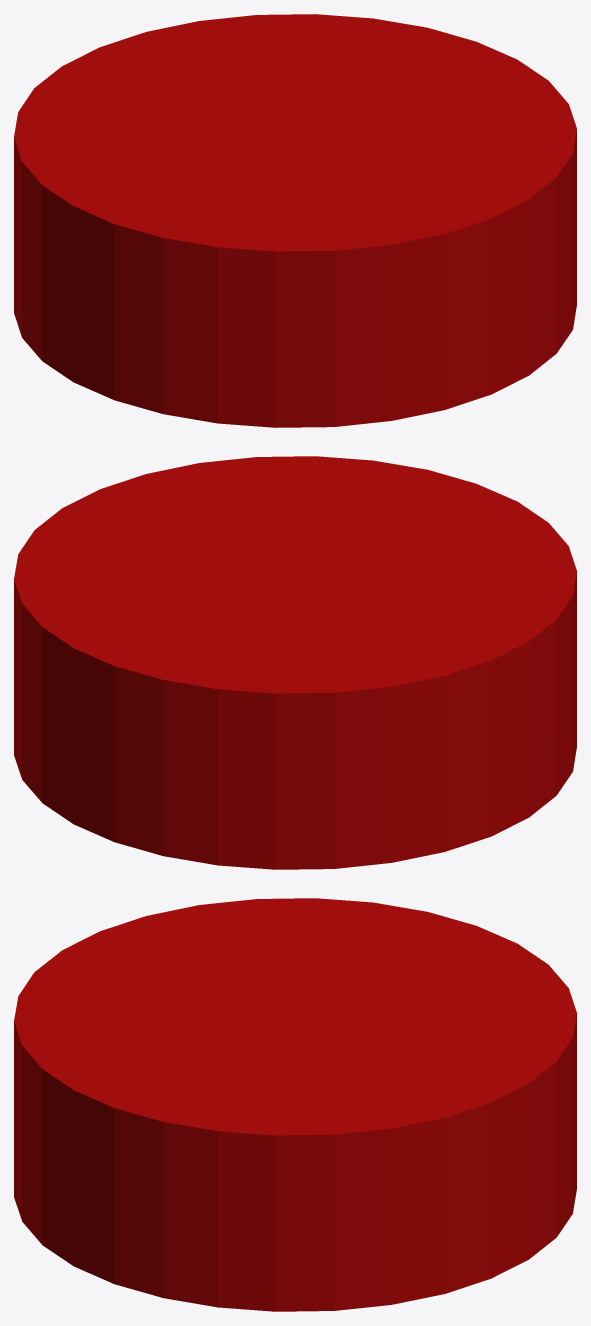
The model's file is SM_乙腈瓶盖.fbx.
The picture shows the model from 3 angles, top to bottom: view 1: azimuth 30°, elevation 25°; view 2: azimuth 150°, elevation 25°; view 3: azimuth 270°, elevation 25°; orthographic projection.
Visible parts, largest first — view 1: SM_乙腈瓶盖; view 2: SM_乙腈瓶盖; view 3: SM_乙腈瓶盖.
Part boxes in pixels (x1,y1,x2,y2): SM_乙腈瓶盖: (14,14,576,427); SM_乙腈瓶盖: (14,456,576,869); SM_乙腈瓶盖: (14,898,576,1311).
Size of the model in its own units: 27.46 by 9.5 by 27.52.
